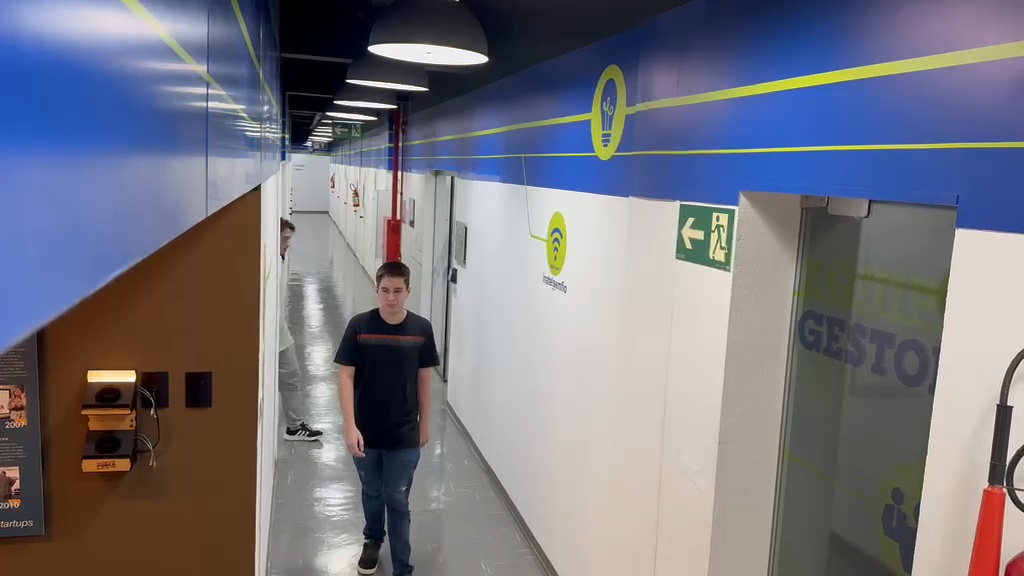person: (332, 260, 440, 574)
